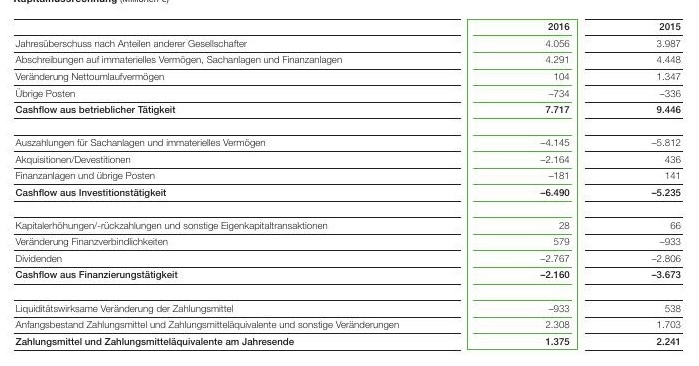table: (0, 0, 699, 366)
